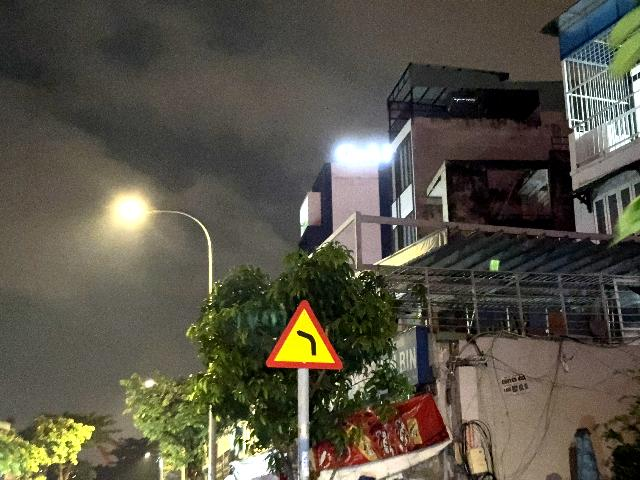cho-ngoat-nguy-hiem-ben-trai: (266, 299, 343, 370)
